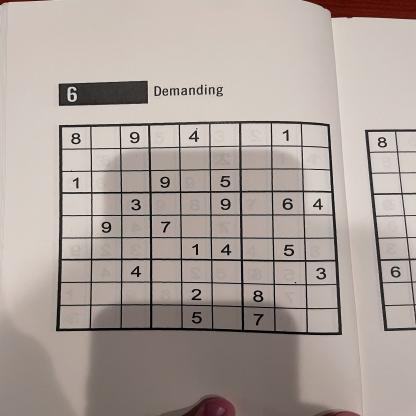sudoku: (50, 118, 344, 341)
